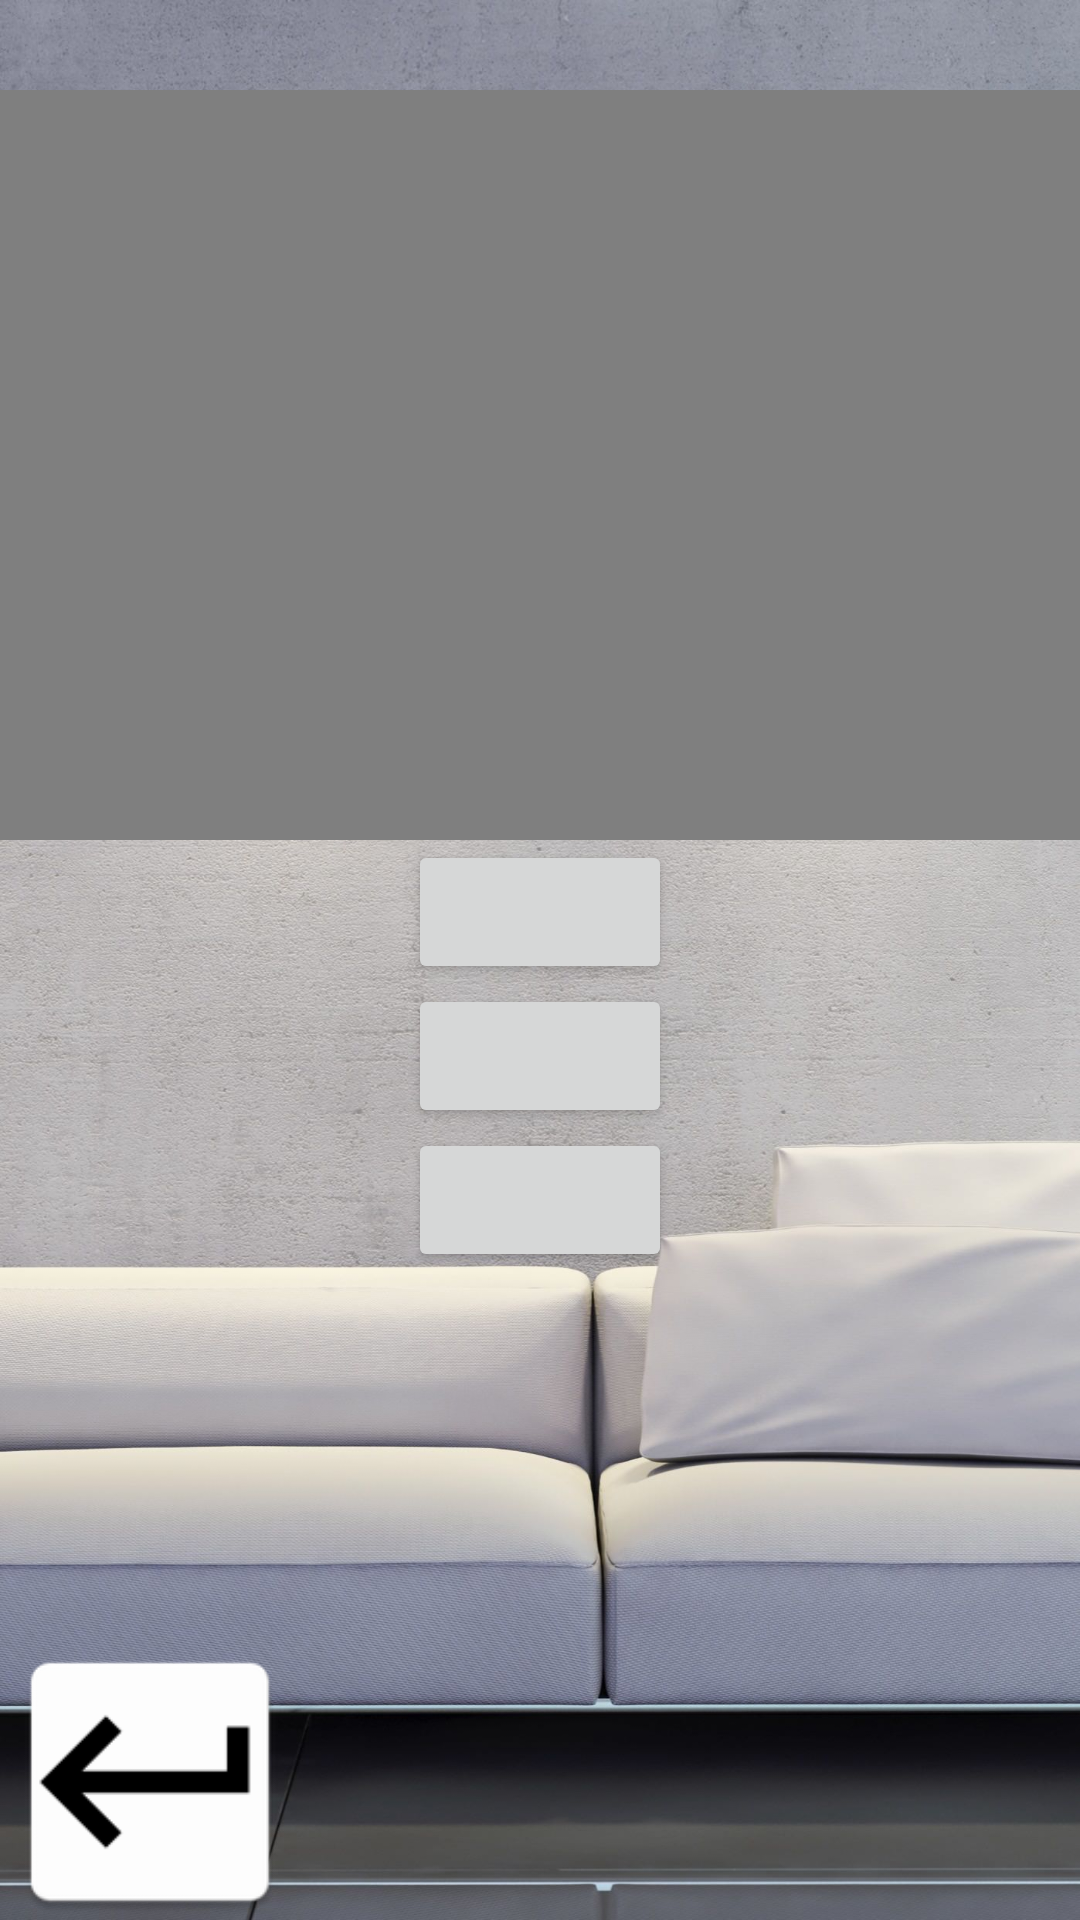

Where to tap for icons on this 1080px×1920px app screen, as (x=x, y=y):
regresa: (x=150, y=1777)
